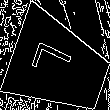L_E: (34, 43, 84, 90)
